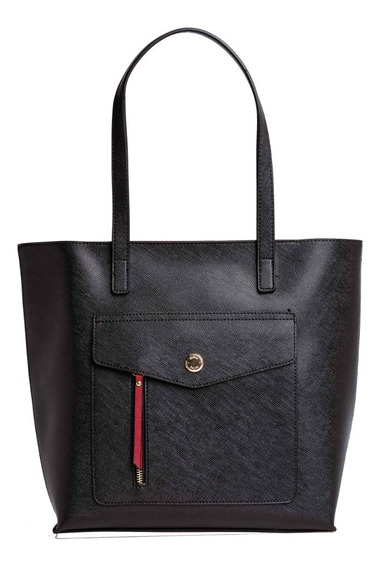cartera: (14, 26, 365, 535)
